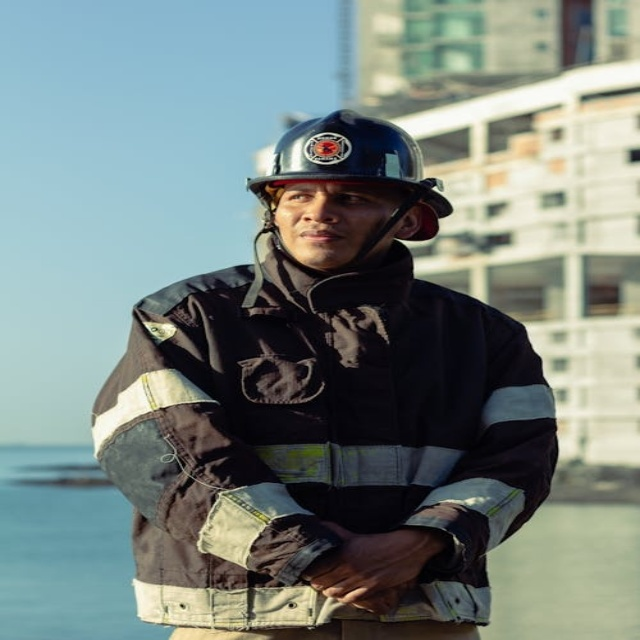Sin_gafas: (282, 185, 384, 207)
Sin_guantes: (298, 520, 434, 616)
Sin_mascara: (289, 224, 343, 255)
